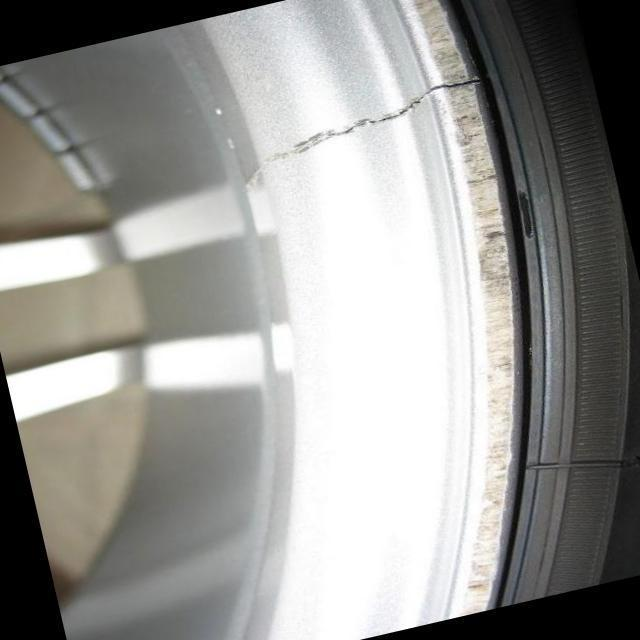defect: (239, 73, 494, 188)
